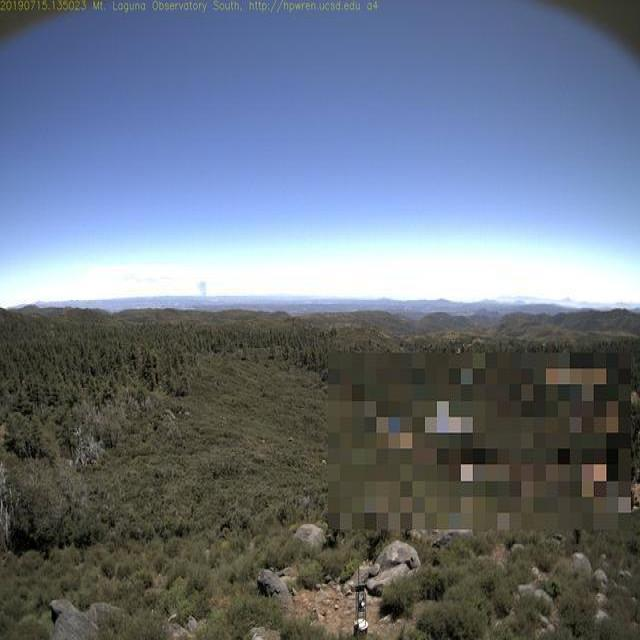Smoke: (194, 277, 213, 307)
